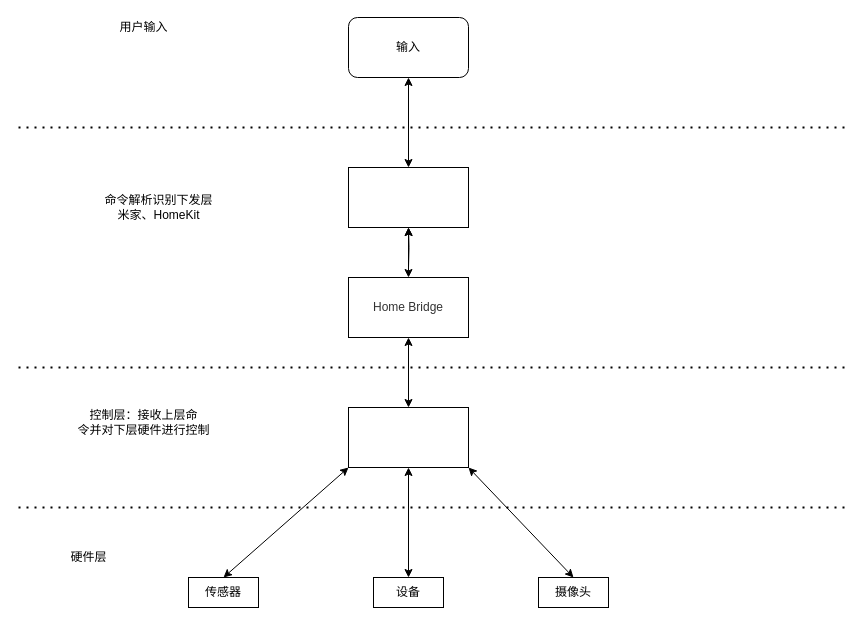
Image size: 867x625. Some labels were removed from this diagram. Each missing label, with the centre of its shape:
home assistant: the point at 408,437
HomeKit: the point at 408,197
